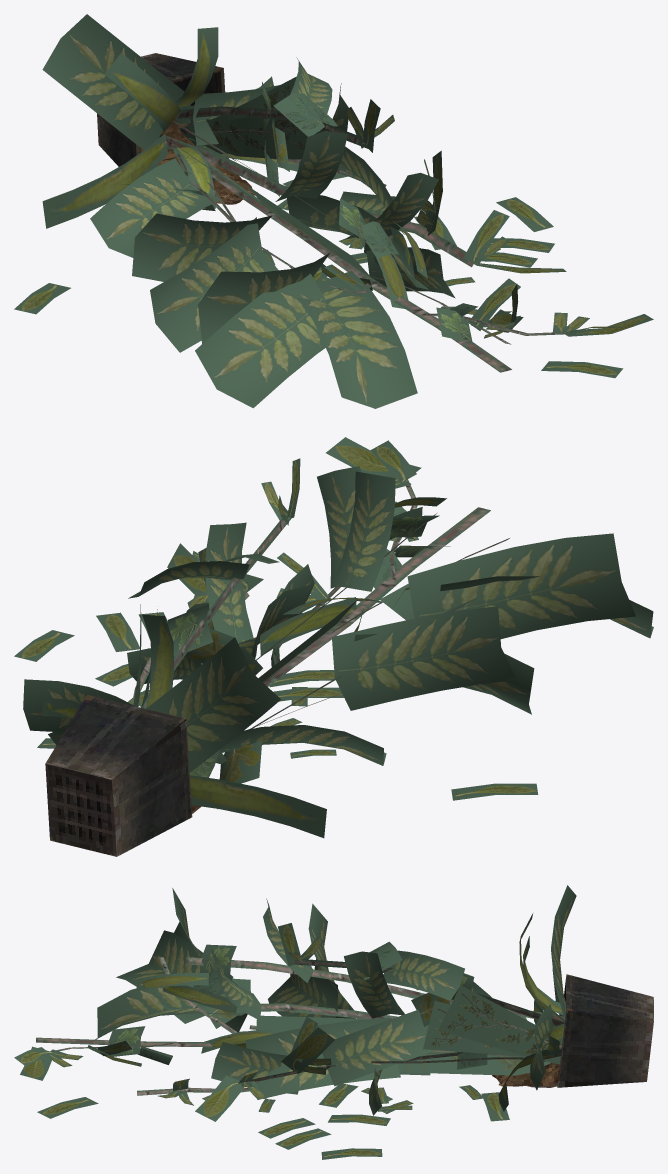
Rendered from sm10_012_pail02a.fbx.
3 views of the same model, one above another, from view 1: azimuth 30°, elevation 25°; view 2: azimuth 150°, elevation 25°; view 3: azimuth 270°, elevation 25° (orthographic). The views are drawn at different scales.
Parts seen in each view (by area): view 1: LOD_1_Group_0_Sub_1__sm10_004_Pail01A_B_Mat, LOD_1_Group_0_Sub_2__sm10_004_Pail01A_A_Mat; view 2: LOD_1_Group_0_Sub_1__sm10_004_Pail01A_B_Mat, LOD_1_Group_0_Sub_2__sm10_004_Pail01A_A_Mat; view 3: LOD_1_Group_0_Sub_1__sm10_004_Pail01A_B_Mat, LOD_1_Group_0_Sub_2__sm10_004_Pail01A_A_Mat.
Part boxes in pixels (bbox=[...]): LOD_1_Group_0_Sub_1__sm10_004_Pail01A_B_Mat: bbox=[14, 14, 653, 408]; LOD_1_Group_0_Sub_2__sm10_004_Pail01A_A_Mat: bbox=[97, 53, 257, 204]; LOD_1_Group_0_Sub_1__sm10_004_Pail01A_B_Mat: bbox=[14, 437, 653, 838]; LOD_1_Group_0_Sub_2__sm10_004_Pail01A_A_Mat: bbox=[45, 694, 201, 856]; LOD_1_Group_0_Sub_1__sm10_004_Pail01A_B_Mat: bbox=[14, 885, 576, 1159]; LOD_1_Group_0_Sub_2__sm10_004_Pail01A_A_Mat: bbox=[492, 974, 653, 1087].
Bounding box in the file's own units: 1.4 × 0.5488 × 1.92.
